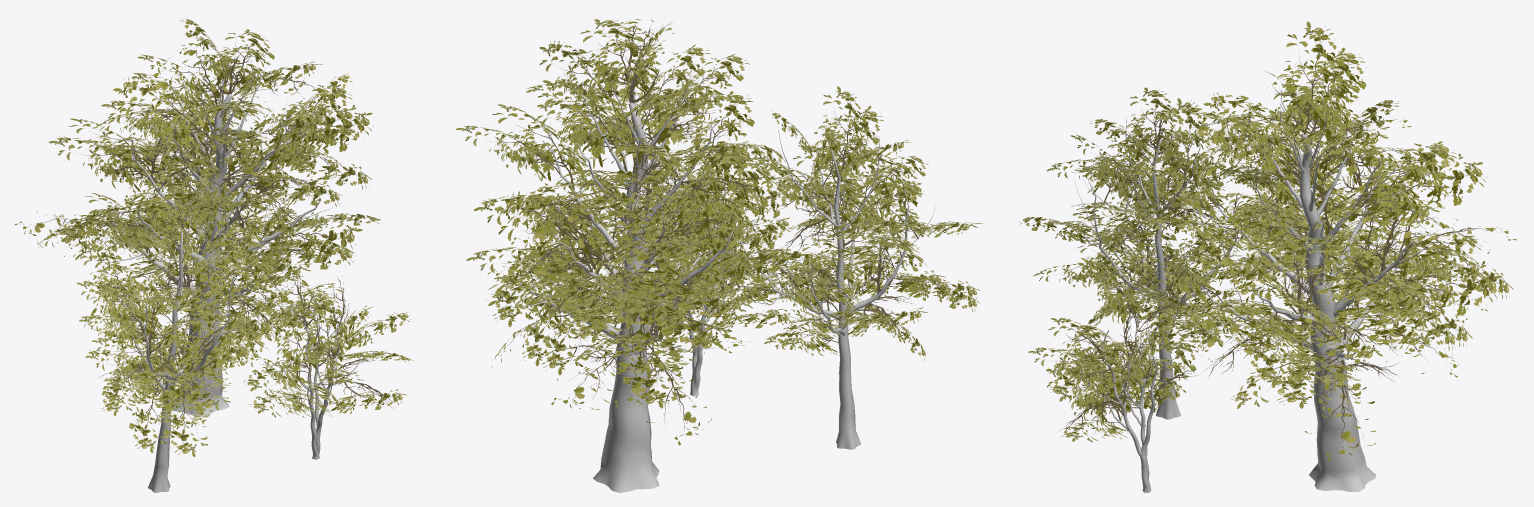
The model's file is oaktrees.fbx.
The picture shows the model from 3 angles, left to right: view 1: azimuth 30°, elevation 25°; view 2: azimuth 150°, elevation 25°; view 3: azimuth 270°, elevation 25°; orthographic projection. The views are drawn at different scales.
Parts seen in each view (by area): view 1: treelarge, Treemedium, leafplanes_4_23, leafplanes_4_7, leafplanes_4_39, leafplanes_10_3, Treesmall, leafplanes_4_13_2, leafplanes_4_13_3_40_2, leafplanes_3, leafplanes_4_13_3_67, leafplanes_5 (+76 smaller); view 2: treelarge, Treemedium, leafplanes_10_195, leafplanes_10_177, leafplanes_4_13, leafplanes_4_38, leafplanes_10_108, leafplanes_10_9, leafplanes_10_117, leafplanes_4_6, leafplanes_4_58, leafplanes_4_55 (+74 smaller); view 3: treelarge, Treemedium, leafplanes_4_13_3, Treesmall, leafplanes_4_60, leafplanes_4_13_1, leafplanes_4_52, leafplanes_10_93_1, leafplanes_10_78, leafplanes_4_37, leafplanes_10_114, leafplanes_4_41 (+79 smaller).
Boxes of the visible parts, left/top/right/bottom form: treelarge: left=82, top=53, right=338, bottom=416; Treemedium: left=123, top=189, right=255, bottom=492; leafplanes_4_23: left=113, top=77, right=214, bottom=156; leafplanes_4_7: left=260, top=212, right=362, bottom=266; leafplanes_4_39: left=222, top=102, right=326, bottom=168; leafplanes_10_3: left=152, top=150, right=221, bottom=217; Treesmall: left=288, top=292, right=374, bottom=459; leafplanes_4_13_2: left=209, top=29, right=274, bottom=93; leafplanes_4_13_3_40_2: left=156, top=384, right=212, bottom=457; leafplanes_3: left=66, top=195, right=169, bottom=249; leafplanes_4_13_3_67: left=128, top=377, right=181, bottom=453; leafplanes_5: left=54, top=211, right=155, bottom=252; treelarge: left=486, top=56, right=760, bottom=492; Treemedium: left=740, top=130, right=935, bottom=449; leafplanes_10_195: left=616, top=325, right=692, bottom=408; leafplanes_10_177: left=492, top=243, right=579, bottom=326; leafplanes_4_13: left=580, top=19, right=661, bottom=99; leafplanes_4_38: left=631, top=271, right=731, bottom=353; leafplanes_10_108: left=598, top=165, right=675, bottom=236; leafplanes_10_9: left=662, top=148, right=750, bottom=232; leafplanes_10_117: left=522, top=277, right=607, bottom=366; leafplanes_4_6: left=494, top=190, right=611, bottom=287; leafplanes_4_58: left=492, top=104, right=587, bottom=189; leafplanes_4_55: left=538, top=78, right=635, bottom=171; treelarge: left=1174, top=87, right=1435, bottom=491; Treemedium: left=1074, top=118, right=1241, bottom=419; leafplanes_4_13_3: left=1273, top=21, right=1348, bottom=134; Treesmall: left=1087, top=311, right=1162, bottom=492; leafplanes_4_60: left=1343, top=144, right=1454, bottom=211; leafplanes_4_13_1: left=1288, top=47, right=1367, bottom=139; leafplanes_4_52: left=1365, top=153, right=1487, bottom=224; leafplanes_10_93_1: left=1203, top=92, right=1304, bottom=165; leafplanes_10_78: left=1231, top=232, right=1310, bottom=300; leafplanes_4_37: left=1274, top=355, right=1361, bottom=408; leafplanes_10_114: left=1195, top=207, right=1280, bottom=277; leafplanes_4_41: left=1389, top=261, right=1501, bottom=326.
Size of the model in its own units: 752 by 779 by 793.
